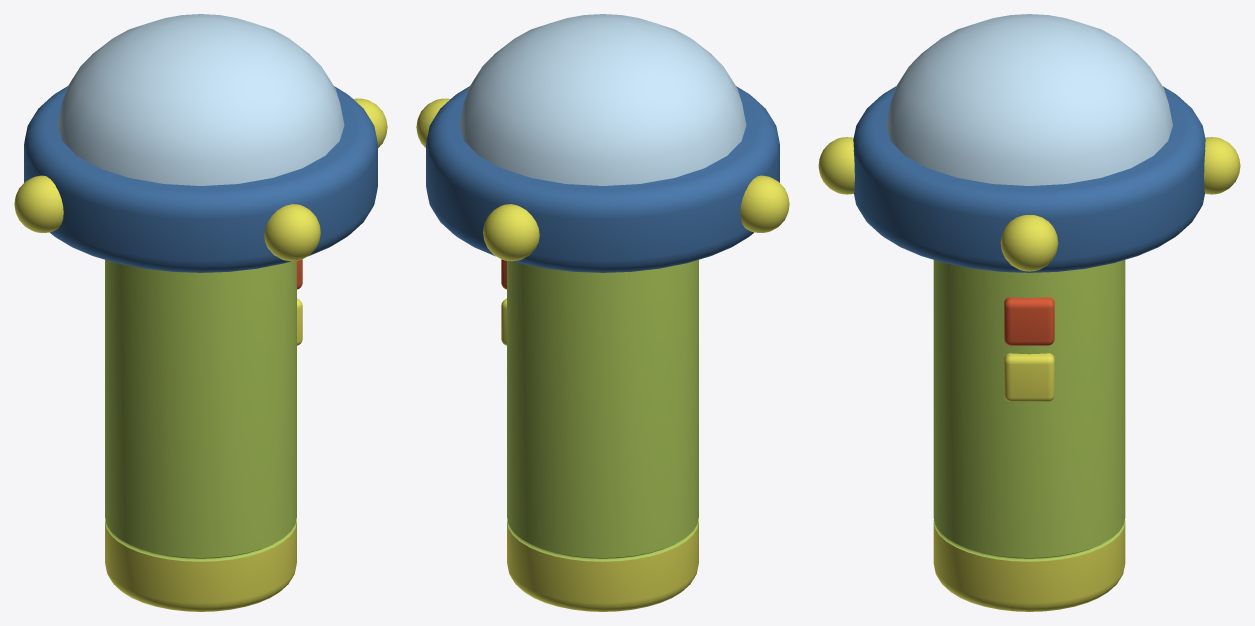
File: small light.fbx
The picture shows the model from 3 angles, left to right: view 1: azimuth 30°, elevation 25°; view 2: azimuth 150°, elevation 25°; view 3: azimuth 270°, elevation 25°; orthographic projection.
Parts seen in each view (by area): view 1: small_light; view 2: small_light; view 3: small_light.
Part boxes in pixels (x1,y1,x2,y2): small_light: [14, 14, 387, 611]; small_light: [416, 14, 789, 611]; small_light: [818, 14, 1240, 611].
Size of the model in its own units: 276 by 393 by 276.
